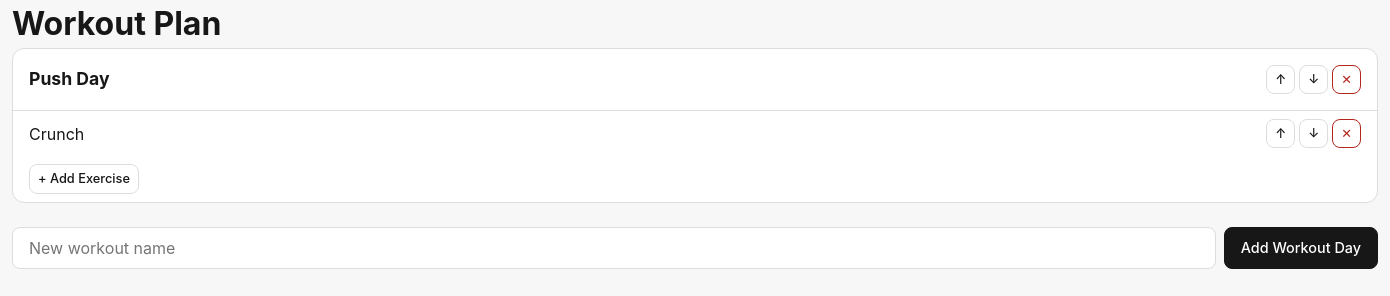
Scenario: PlanPage with a server-backed plan › closes edit mode without changing the plan when clicking away
The width and height of the screenshot is (1390, 296).
Expected: the heading "Push Day" is shown, [29,66,110,93]
Click the text "Crunch" at (57, 134), box [29,122,84,146]
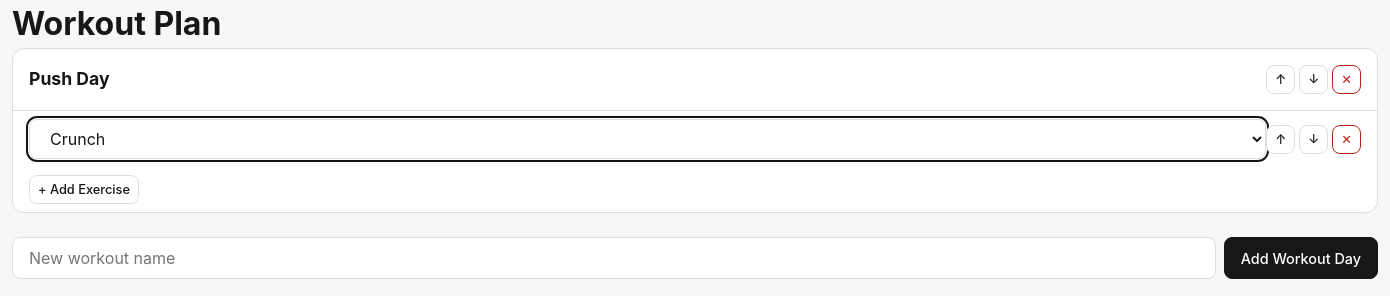
Leave the dropdown, box [29,119,1266,159]
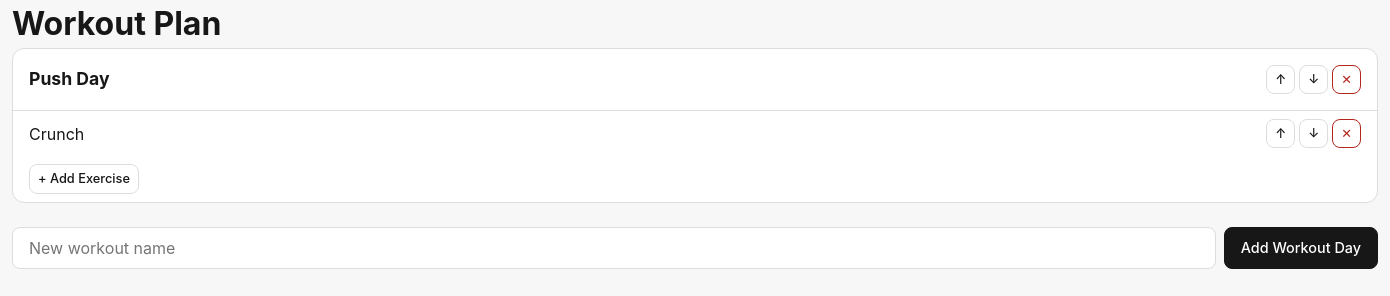
Now the dropdown is gone
Now the text "Crunch" is shown, box [29,122,84,146]
